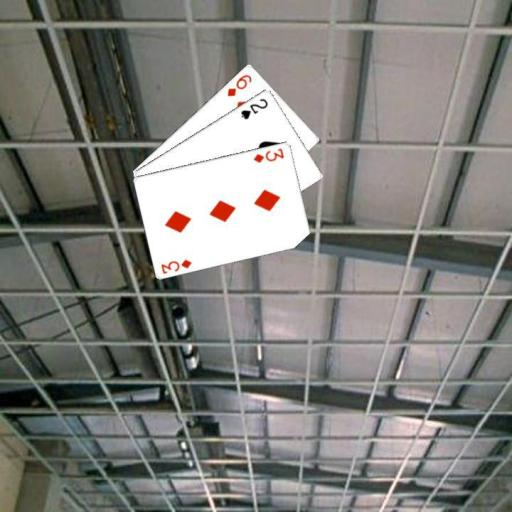2S: (238, 95, 270, 121)
3D: (250, 145, 286, 164), (158, 256, 193, 275)
6D: (224, 71, 253, 98)
